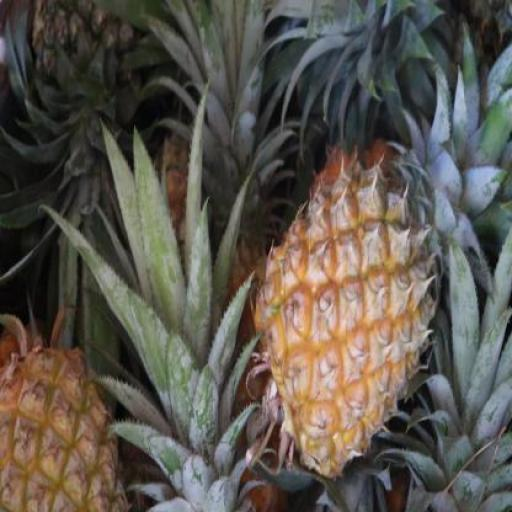Pineapple - v8 v1: (250, 160, 452, 480)
